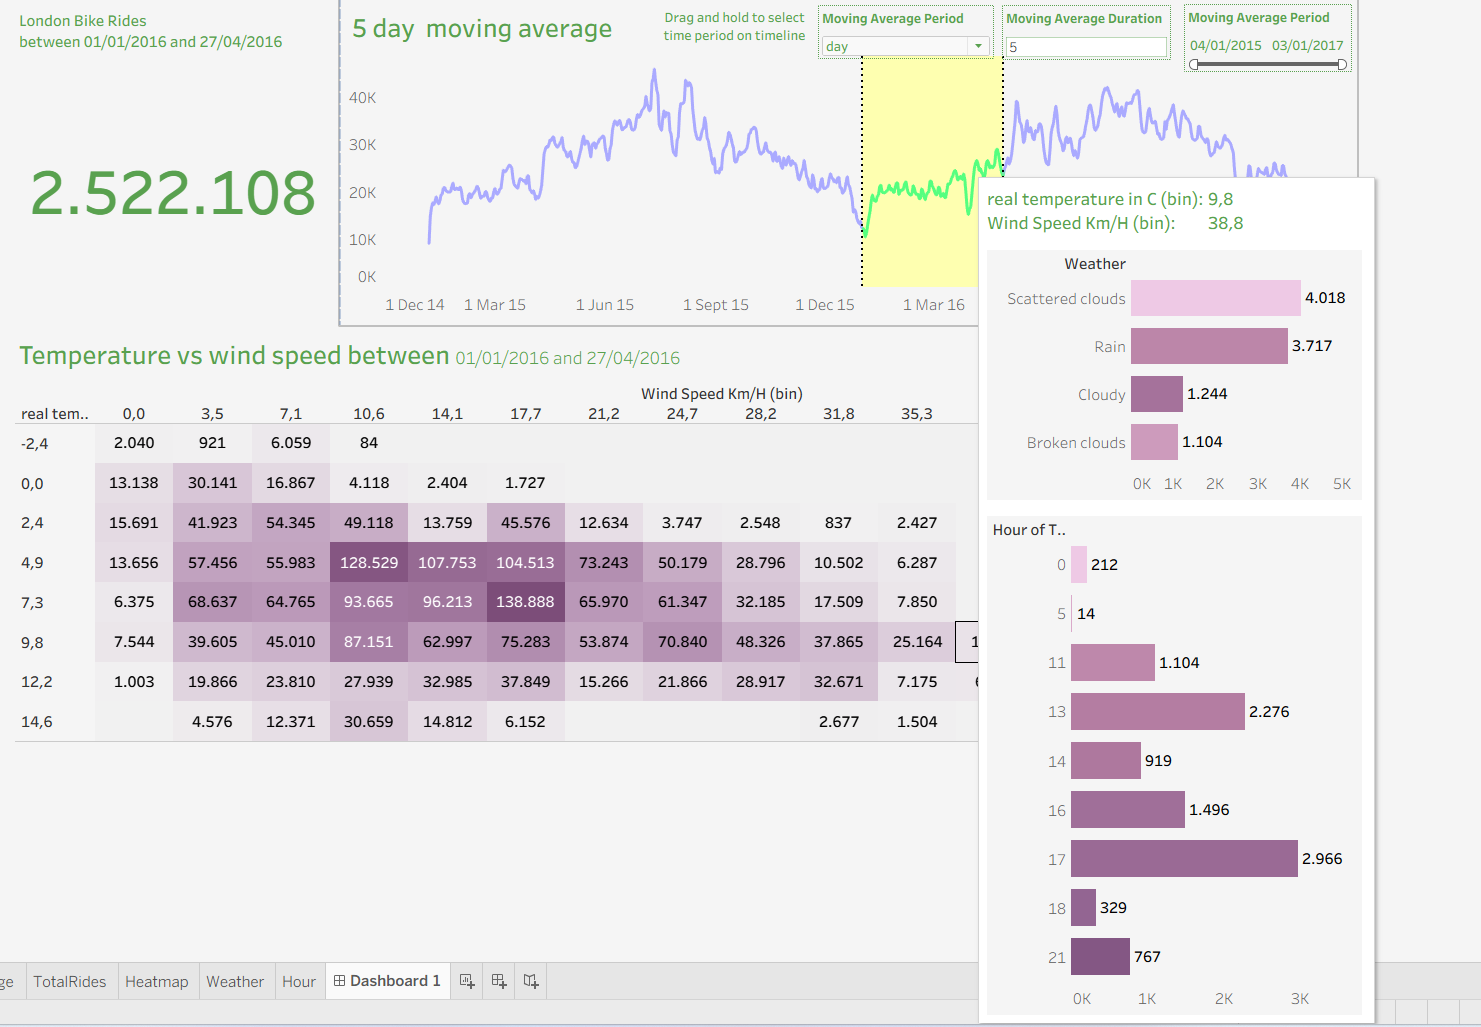

The dashboard page shown, as its layout file describes it:
{"tool":"tableau","page":{"name":"Dashboard 1","canvas":[1366,768],"ordinal":0},"visuals":[{"type":"worksheet","title":"TotalRides","mark":"Automatic","box":[8,8,333,327]},{"type":"worksheet","title":"MovingAverage","mark":"Automatic","rows":["Calculation_0558045820956674"],"cols":["Calculation_0544301906456578"],"box":[341,8,1017,327]},{"type":"filter","title":"MovingAverage","param":"[federated.0j1wv3a1vyclg312tibfn0kq5nvj].[none:Calculation_0544301906456578:qk]","box":[1185,14,168,68]},{"type":"text","box":[650,15,171,42]},{"type":"parameter","param":"[Parameters].[Parameter 0544301905965056]","box":[819,15,176,54]},{"type":"parameter","param":"[Parameters].[Parameter 0544301906145281]","box":[1003,15,169,55]},{"type":"worksheet","title":"Heatmap","mark":"Square","rows":["real temperature in C (bin)"],"cols":["Wind Speed Km/H (bin)"],"box":[8,335,1350,425]}]}

Visuals, with their boxes on the page's 1366x768 design canvas (x1, y1, x2, y2). These are canvas units, not pixel positions in the 1481x1027 screenshot, which may show the page scaled, cropped or inside an application window:
"TotalRides" worksheet: {"left": 8, "top": 8, "right": 341, "bottom": 335}
"MovingAverage" worksheet: {"left": 341, "top": 8, "right": 1358, "bottom": 335}
"MovingAverage" filter: {"left": 1185, "top": 14, "right": 1353, "bottom": 82}
text: {"left": 650, "top": 15, "right": 821, "bottom": 57}
parameter: {"left": 819, "top": 15, "right": 995, "bottom": 69}
parameter: {"left": 1003, "top": 15, "right": 1172, "bottom": 70}
"Heatmap" worksheet (Square marks): {"left": 8, "top": 335, "right": 1358, "bottom": 760}
